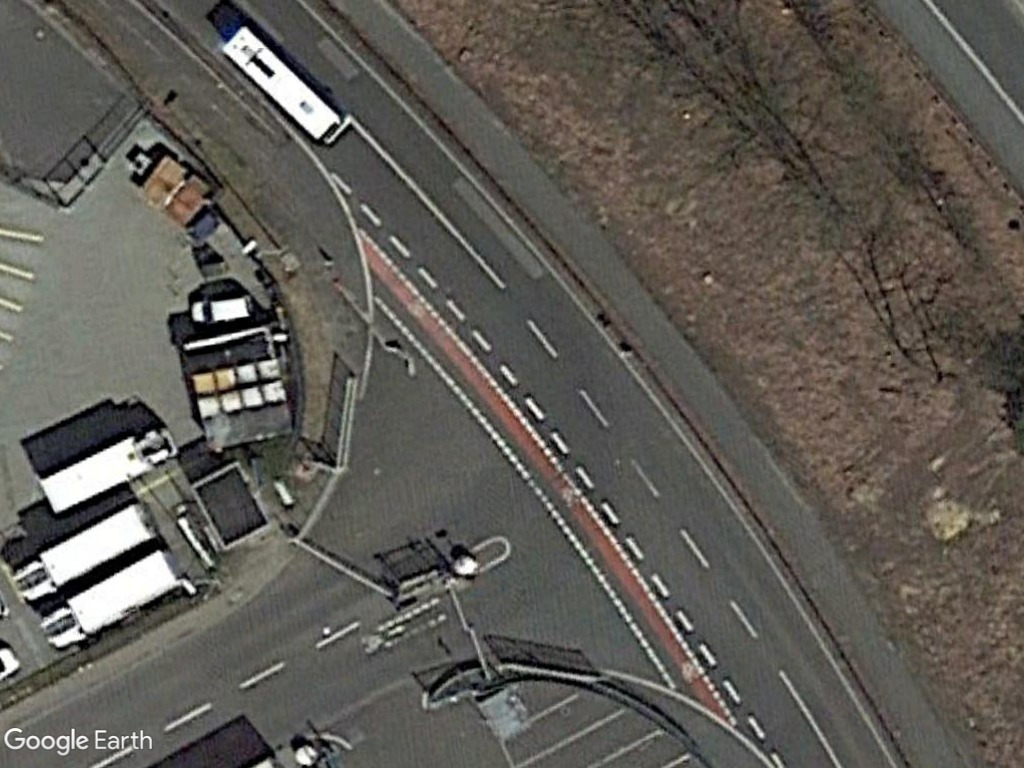bus: (212, 16, 352, 154)
truck: (19, 501, 165, 607), (39, 547, 185, 653), (30, 420, 178, 522)
